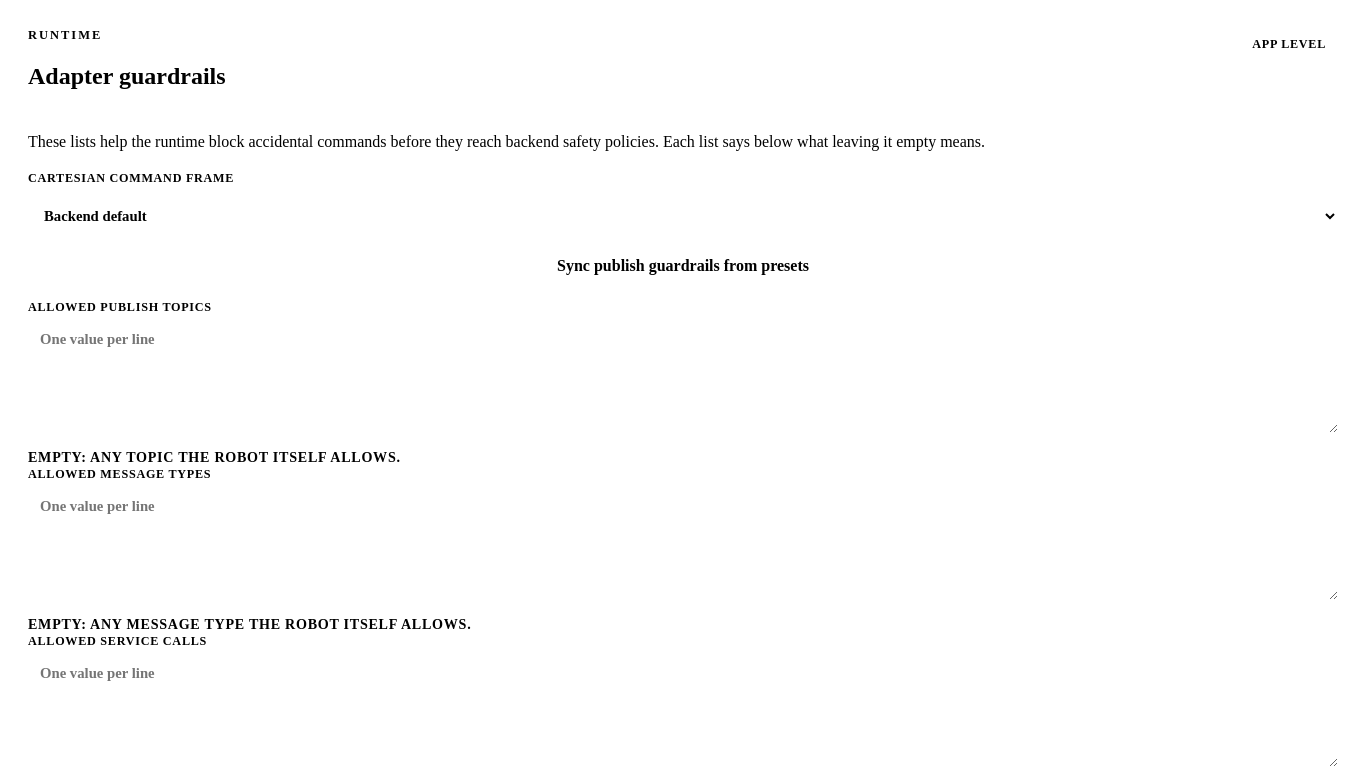
Test: the adapter guardrail lists › shows a list changed from outside the field
Click the button "Sync publish guardrails from presets" at (683, 266), box [28,244,1338,288]
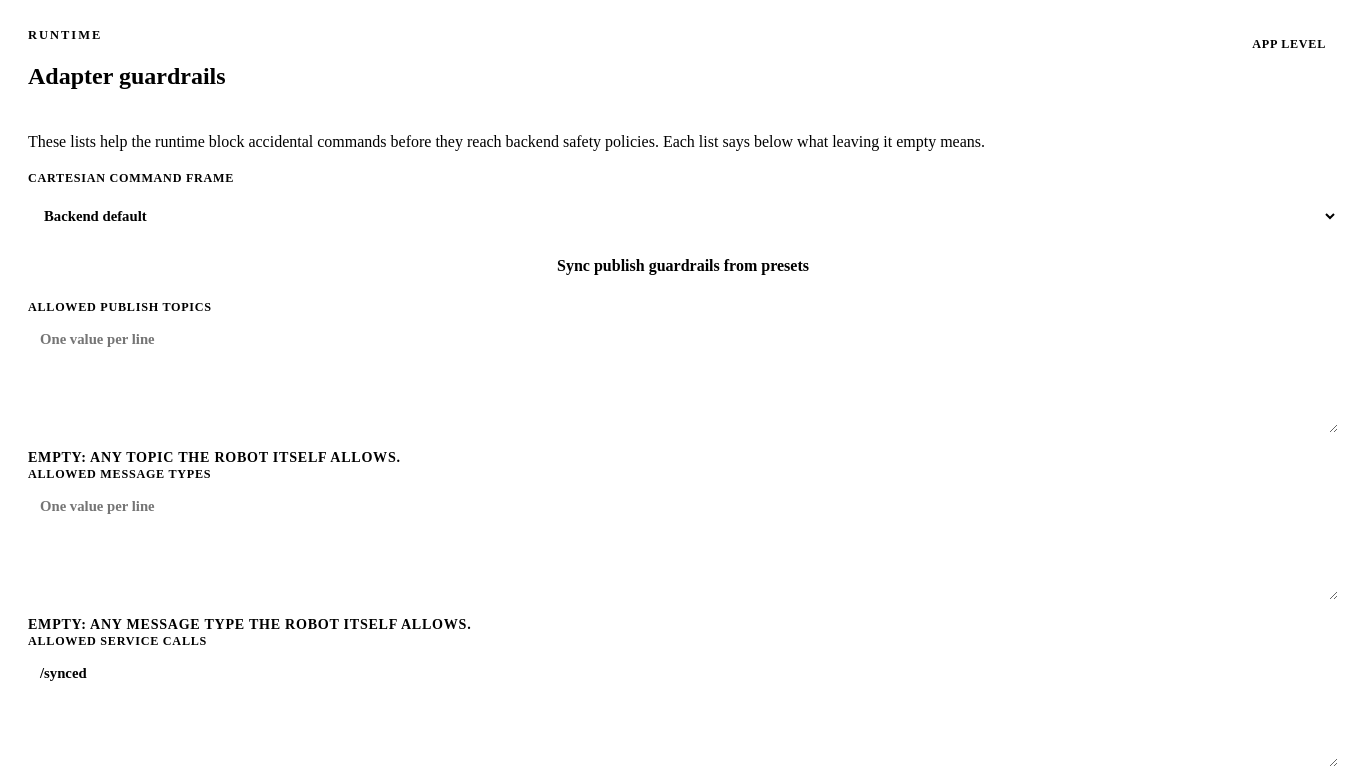
Expected: the text box labelled "Allowed service calls" holds "/synced", [28,655,1338,767]
